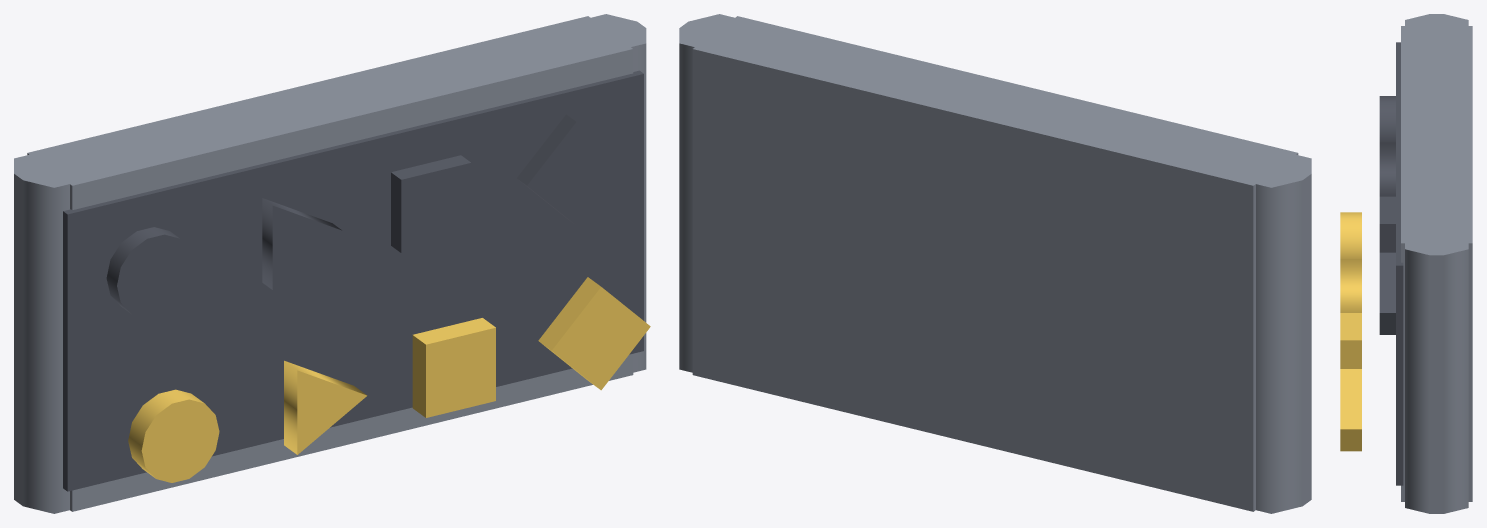
File: prop_cable_plug_set.glb
The picture shows the model from 3 angles, left to right: view 1: azimuth 30°, elevation 25°; view 2: azimuth 150°, elevation 25°; view 3: azimuth 270°, elevation 25°; orthographic projection. The views are drawn at different scales.
Parts seen in each view (by area): view 1: prop_cable_plug_set, plug_square, socket_square, plug_diamond, plug_circle, socket_diamond, socket_circle, plug_triangle, socket_triangle; view 2: prop_cable_plug_set; view 3: prop_cable_plug_set, plug_diamond, socket_diamond, plug_square, plug_triangle, plug_circle, socket_square, socket_triangle, socket_circle.
Boxes of the visible parts, x1,y1,x2,y2 form: prop_cable_plug_set: (14,14,646,513); plug_square: (412,318,495,417); socket_square: (391,155,471,252); plug_diamond: (538,277,650,390); plug_circle: (128,389,219,482); socket_diamond: (517,114,625,225); socket_circle: (106,227,194,318); plug_triangle: (284,360,367,454); socket_triangle: (262,198,342,289); prop_cable_plug_set: (679,14,1311,513); prop_cable_plug_set: (1396,14,1472,513); plug_diamond: (1340,369,1361,451); socket_diamond: (1379,252,1395,334); plug_square: (1340,313,1361,368); plug_triangle: (1340,259,1361,312); plug_circle: (1340,212,1361,258); socket_square: (1379,196,1395,252); socket_triangle: (1379,142,1395,196); socket_circle: (1379,96,1395,142).
Bounding box in the file's own units: 0.8 × 0.4 × 0.185.
